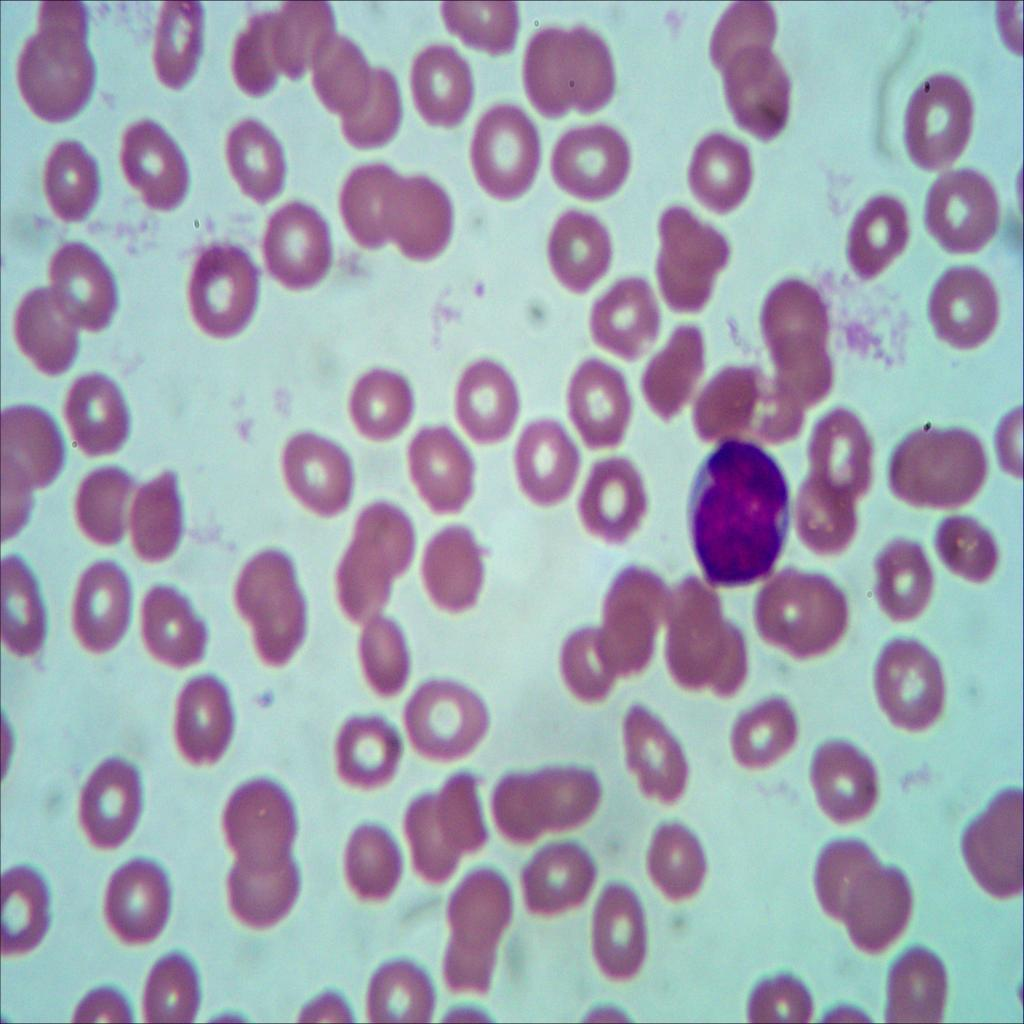Eritrosit: (744, 564, 850, 664), (8, 20, 102, 132), (646, 197, 732, 314), (459, 90, 541, 208), (690, 358, 795, 448), (212, 770, 306, 866), (276, 412, 358, 522), (615, 706, 700, 812), (870, 634, 949, 747), (860, 533, 948, 633), (957, 774, 1024, 904), (580, 874, 656, 988), (898, 425, 986, 520), (550, 116, 642, 206), (184, 241, 265, 343), (258, 195, 340, 295), (504, 414, 586, 514), (395, 674, 493, 756), (836, 863, 925, 953), (562, 350, 636, 458), (135, 576, 213, 678), (69, 755, 148, 855), (899, 68, 975, 171), (120, 111, 192, 219), (417, 518, 491, 622), (56, 371, 142, 460), (685, 127, 763, 225), (925, 156, 1002, 254), (45, 243, 128, 333), (404, 431, 486, 522), (725, 690, 805, 783), (787, 464, 869, 554), (662, 576, 725, 693), (586, 264, 661, 362), (422, 0, 535, 65), (217, 117, 295, 211), (170, 664, 239, 770), (641, 312, 707, 422), (66, 560, 140, 658), (96, 853, 173, 947), (580, 458, 657, 552), (806, 734, 888, 822), (806, 833, 890, 918), (637, 814, 715, 904), (725, 43, 800, 136), (9, 286, 84, 378), (387, 174, 461, 266), (452, 350, 520, 450), (554, 19, 622, 117), (0, 400, 72, 492), (926, 262, 1002, 349), (335, 65, 405, 158), (225, 847, 298, 936), (339, 148, 403, 249), (804, 410, 880, 495), (123, 470, 190, 566), (125, 943, 204, 1024), (326, 709, 404, 791), (356, 959, 453, 1024), (534, 208, 608, 292), (934, 510, 1006, 596), (767, 322, 839, 408), (330, 544, 397, 636), (846, 190, 908, 289), (38, 141, 109, 227), (302, 35, 373, 121), (698, 0, 776, 78), (880, 942, 954, 1024), (438, 922, 512, 1004), (68, 460, 135, 549), (223, 14, 290, 102), (404, 43, 473, 128), (0, 556, 57, 658), (347, 360, 416, 444), (755, 271, 826, 352), (519, 26, 580, 120), (394, 796, 458, 883), (151, 0, 210, 92), (518, 847, 608, 907), (438, 870, 508, 947), (342, 825, 405, 910), (270, 0, 335, 81), (348, 503, 416, 579), (538, 755, 605, 832), (0, 866, 55, 958), (354, 609, 415, 690), (430, 772, 491, 853), (616, 560, 674, 644), (596, 602, 660, 676), (254, 582, 310, 666), (562, 624, 618, 706), (236, 544, 292, 617), (746, 974, 822, 1024), (34, 0, 97, 60), (495, 770, 549, 840), (707, 622, 756, 699)
Limfoblast: (679, 438, 794, 586)
